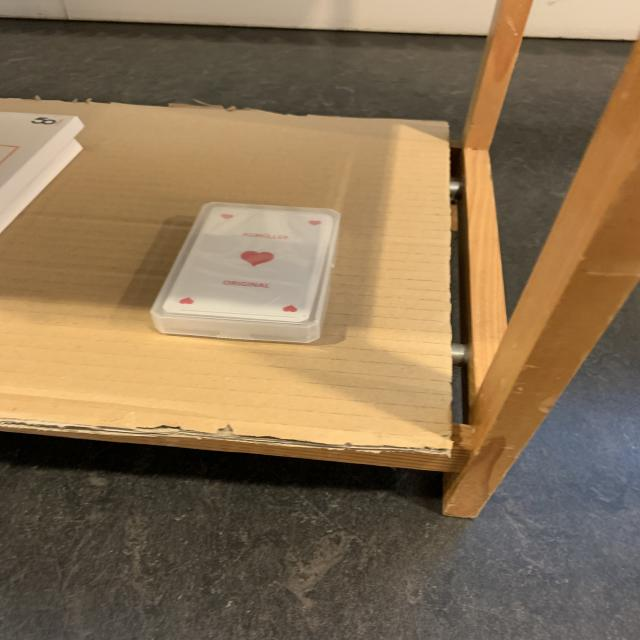Jasskarte: (151, 202, 340, 343)
